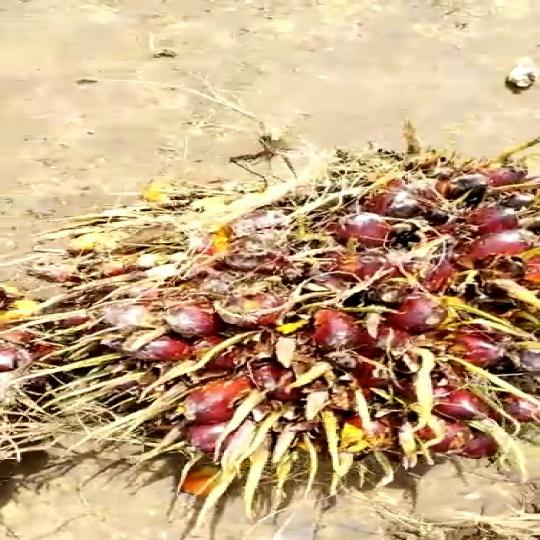masak: (71, 113, 540, 486)
